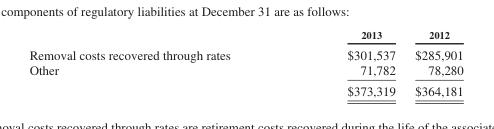table: (28, 28, 462, 97)
table column: (28, 28, 288, 97), (288, 28, 404, 97), (404, 28, 462, 97)
table column header: (28, 28, 462, 43)
table row: (28, 43, 462, 62), (28, 62, 462, 80), (28, 80, 462, 97), (28, 28, 462, 43)
